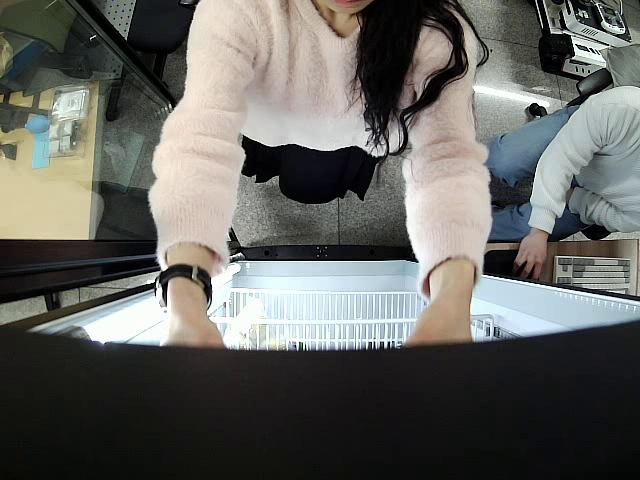00_hand: (513, 232, 547, 280)
